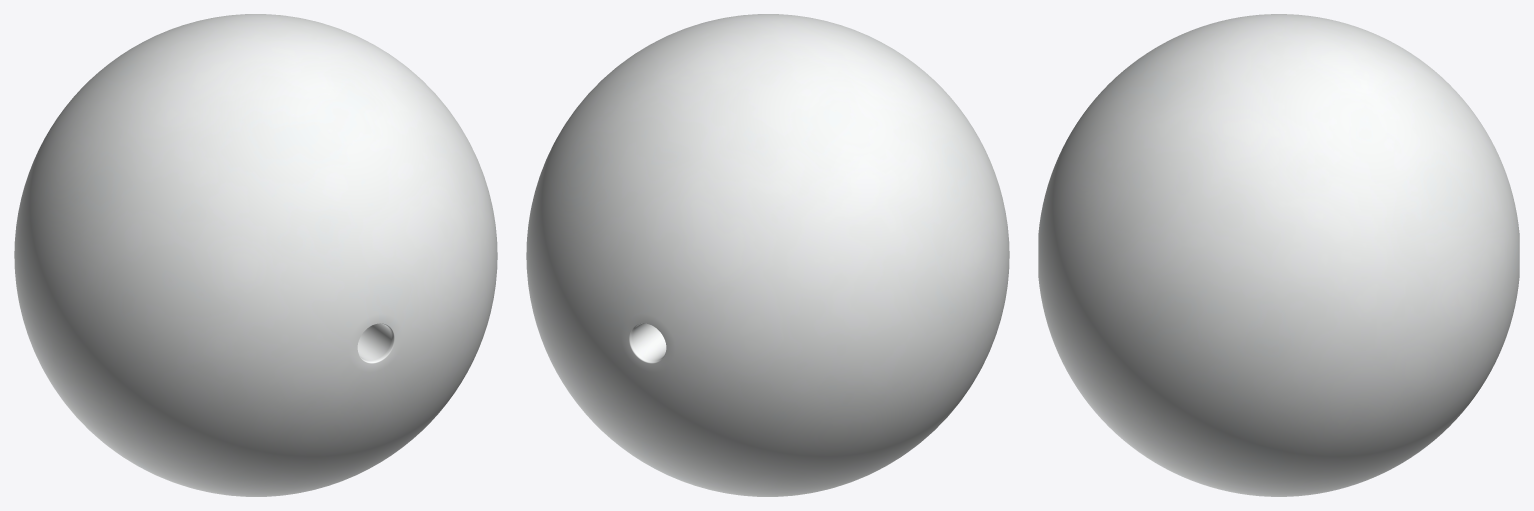
Rendered from clear-quartz-12mm.glb.
The picture shows the model from 3 angles, left to right: view 1: azimuth 30°, elevation 25°; view 2: azimuth 150°, elevation 25°; view 3: azimuth 270°, elevation 25°; orthographic projection.
Visible parts, largest first — view 1: clear-quartz.001; view 2: clear-quartz.001; view 3: clear-quartz.001.
Part boxes in pixels (left/top/right/bottom): clear-quartz.001: left=14, top=14, right=497, bottom=496; clear-quartz.001: left=526, top=14, right=1009, bottom=496; clear-quartz.001: left=1038, top=14, right=1519, bottom=496.
Bounding box in the file's own units: 0.012 × 0.012 × 0.012.
Materials: 2 (1 with a texture image).
